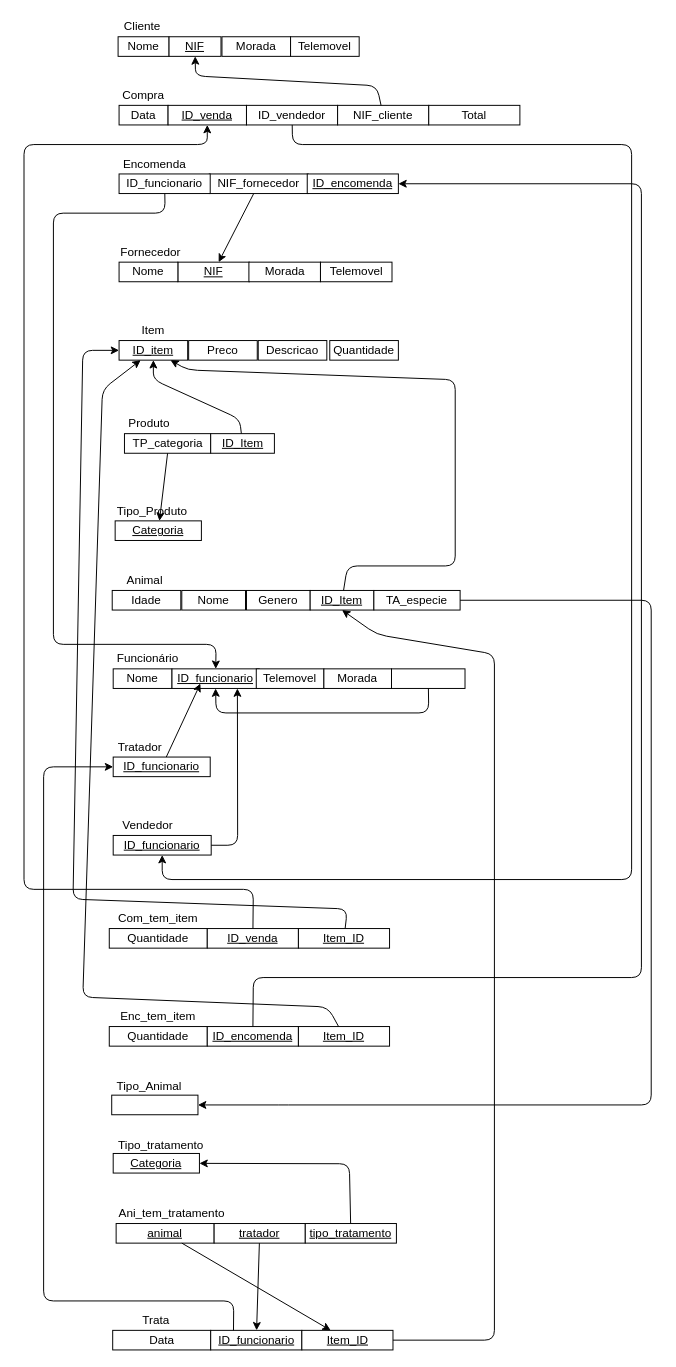
Image size: 676x1367. Some labels were removed from this diagram. Each missing label, with the centre of its shape:
"Especie" belongs at pixel 154 1104.
"Super_Fun" belongs at pixel 428 678.
